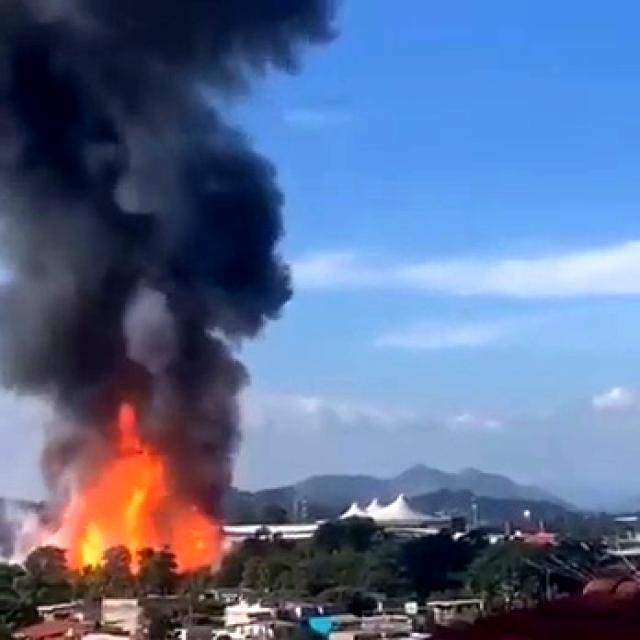Fire: (64, 456, 218, 576)
Smoke: (0, 0, 408, 480)
